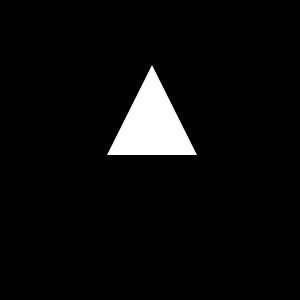triangle: (107, 65, 197, 155)
